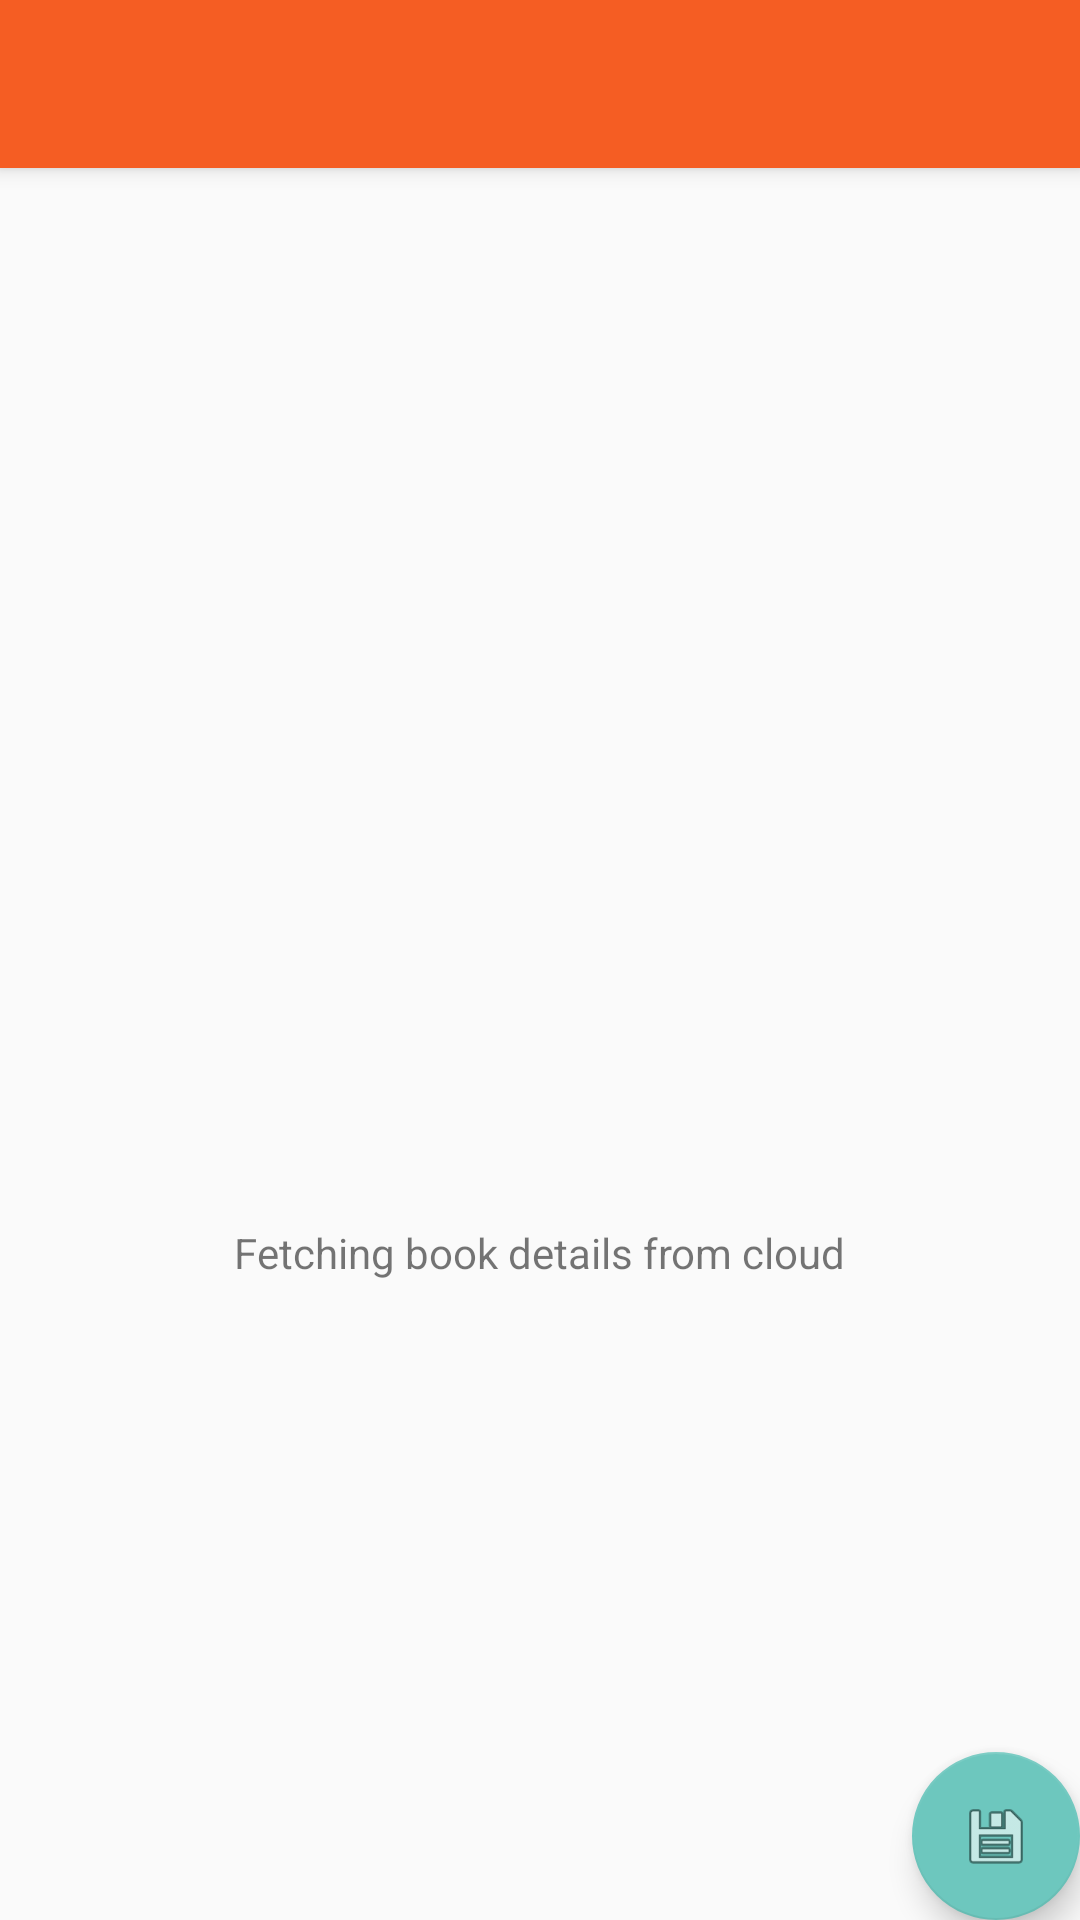

Point at icon controls on the screen. Image size 1080 x 1920, points as (x=x, y=y).
save: (x=996, y=1836)
